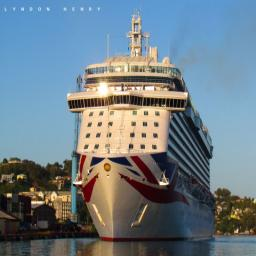cruises: (67, 14, 219, 245)
